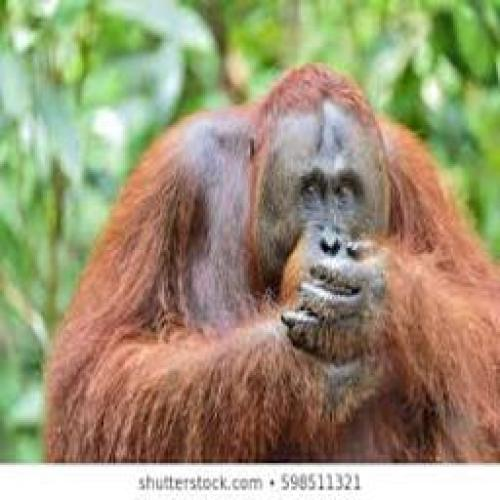orangutan-endangered: (46, 61, 479, 441)
